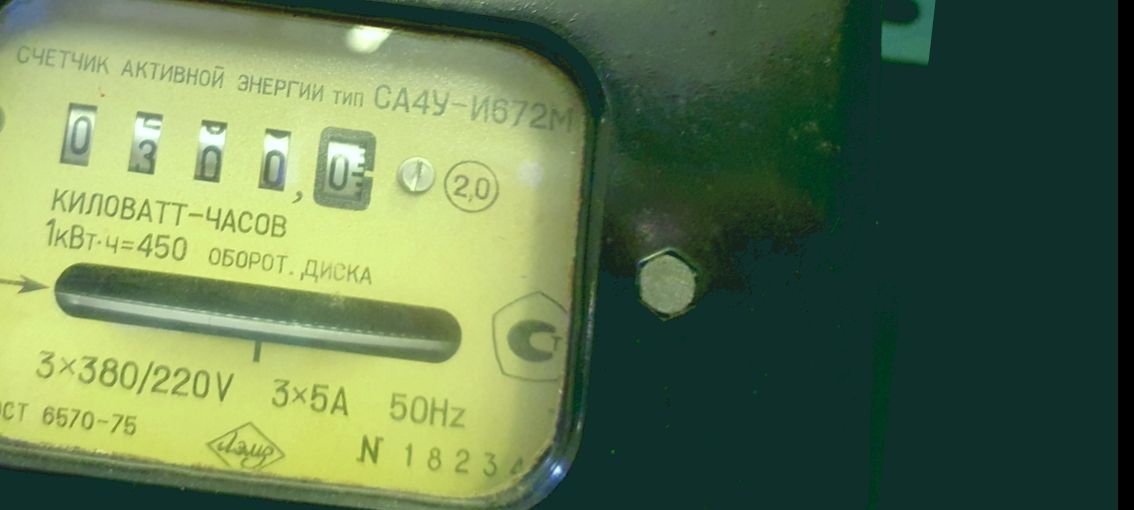0: (260, 144, 290, 191), (67, 109, 95, 158), (324, 148, 353, 193), (196, 140, 224, 183)
3: (132, 134, 159, 175)
screen: (36, 76, 400, 229)
